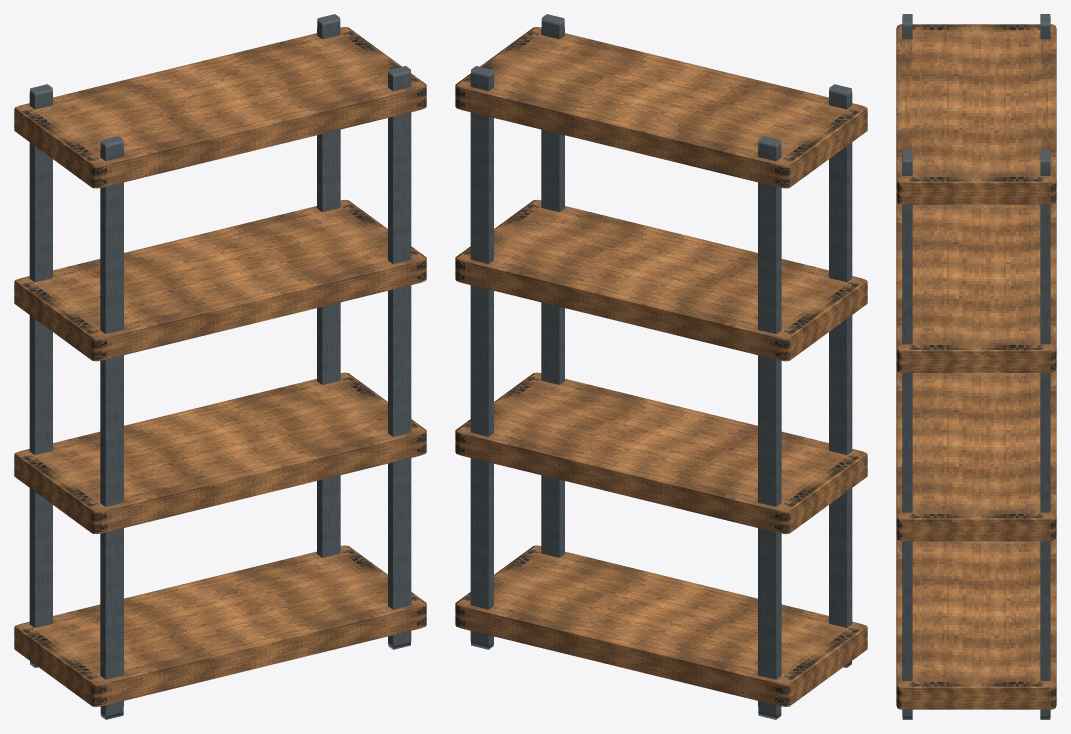
File: literature.glb
3 views of the same model, side by side, from view 1: azimuth 30°, elevation 25°; view 2: azimuth 150°, elevation 25°; view 3: azimuth 270°, elevation 25° (orthographic). The views are drawn at different scales.
Parts seen in each view (by area): view 1: shelf (×4), leg (×4); view 2: shelf (×4), leg (×4); view 3: shelf (×4), leg (×4).
Part boxes in pixels (x1,y1,x2,y2): shelf (×4): (14,27,426,706); leg (×4): (29,14,411,719); shelf (×4): (455,27,867,706); leg (×4): (470,14,852,719); shelf (×4): (896,24,1056,709); leg (×4): (902,14,1050,719).
Size of the model in its own units: 0.68 by 1.12 by 0.29.
2 materials, 2 textured.
